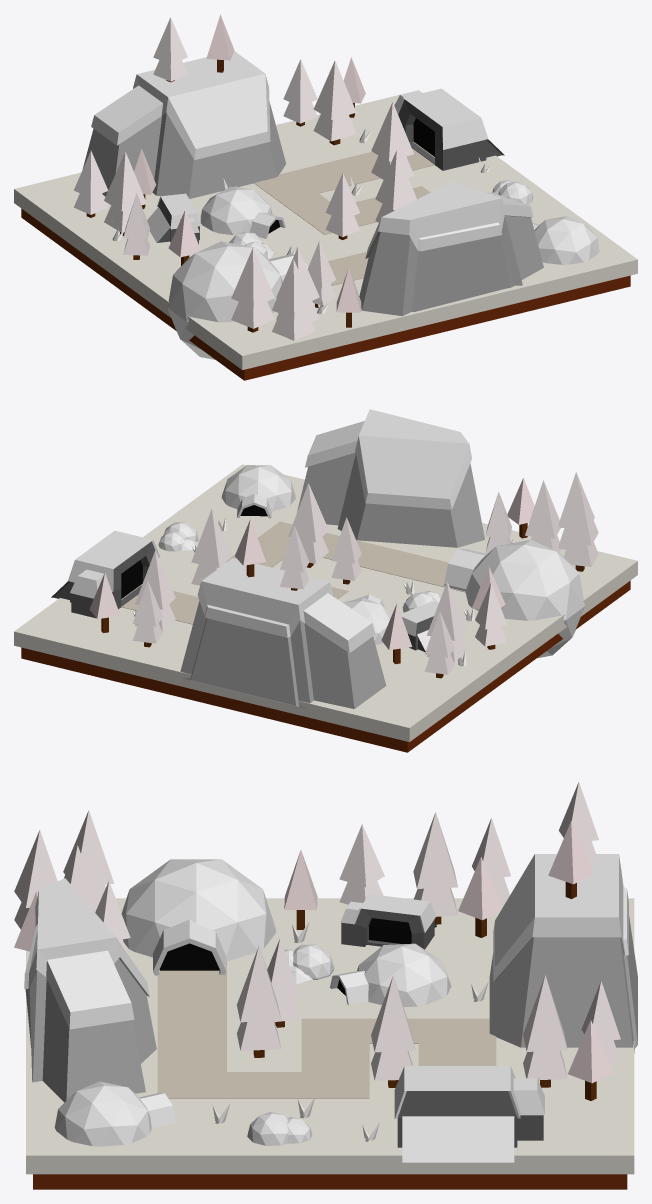
Rendered from SnowMap.fbx.
The picture shows the model from 3 angles, top to bottom: view 1: azimuth 30°, elevation 25°; view 2: azimuth 150°, elevation 25°; view 3: azimuth 270°, elevation 25°; orthographic projection. The views are drawn at different scales.
Visible parts, largest first — view 1: Cube.123, Cube.124, Cube.125, Icosphere, Cube.129, Cube.127, Icosphere.001, Icosphere.002, Cube.251, Cube.131, Cube.252, Cube.246 (+18 smaller); view 2: Cube.123, Cube.124, Cube.125, Icosphere, Cube.129, Cube.127, Icosphere.002, Cube.251, Cube.134, Cube.133, Cube.249, Cube.254 (+17 smaller); view 3: Cube.123, Cube.124, Cube.125, Cube.129, Icosphere, Cube.127, Icosphere.002, Cube.126, Icosphere.001, Cube.137, Cube.134, Cube.131 (+20 smaller).
Part boxes in pixels (x1,y1,x2,y2): Cube.123: (14, 95, 637, 380); Cube.124: (83, 51, 285, 198); Cube.125: (359, 181, 543, 315); Icosphere: (167, 241, 308, 359); Cube.129: (254, 141, 434, 285); Cube.127: (397, 88, 488, 170); Icosphere.001: (200, 186, 285, 238); Icosphere.002: (532, 216, 599, 264); Cube.251: (231, 248, 274, 332); Cube.131: (313, 60, 356, 145); Cube.252: (272, 259, 315, 340); Cube.246: (104, 151, 146, 235); Cube.123: (14, 464, 637, 752); Cube.124: (180, 558, 386, 708); Cube.125: (297, 409, 485, 547); Icosphere: (444, 539, 584, 658); Cube.129: (121, 521, 465, 624); Cube.127: (68, 530, 160, 609); Icosphere.002: (221, 465, 295, 518); Cube.251: (561, 487, 598, 571); Cube.134: (288, 483, 328, 567); Cube.133: (191, 508, 231, 585); Cube.249: (525, 480, 560, 552); Cube.254: (475, 582, 506, 649); Cube.123: (26, 898, 634, 1189); Cube.124: (489, 854, 637, 1053); Cube.125: (24, 878, 156, 1102); Cube.129: (157, 961, 496, 1098); Icosphere: (121, 859, 276, 975); Cube.127: (394, 1066, 520, 1147); Icosphere.002: (54, 1081, 175, 1146); Cube.126: (402, 1116, 514, 1162); Icosphere.001: (330, 943, 451, 1007); Cube.137: (353, 894, 436, 949); Cube.134: (237, 945, 281, 1057); Cube.131: (523, 975, 567, 1087).
Size of the model in its own units: 3023 by 1535 by 3025.
